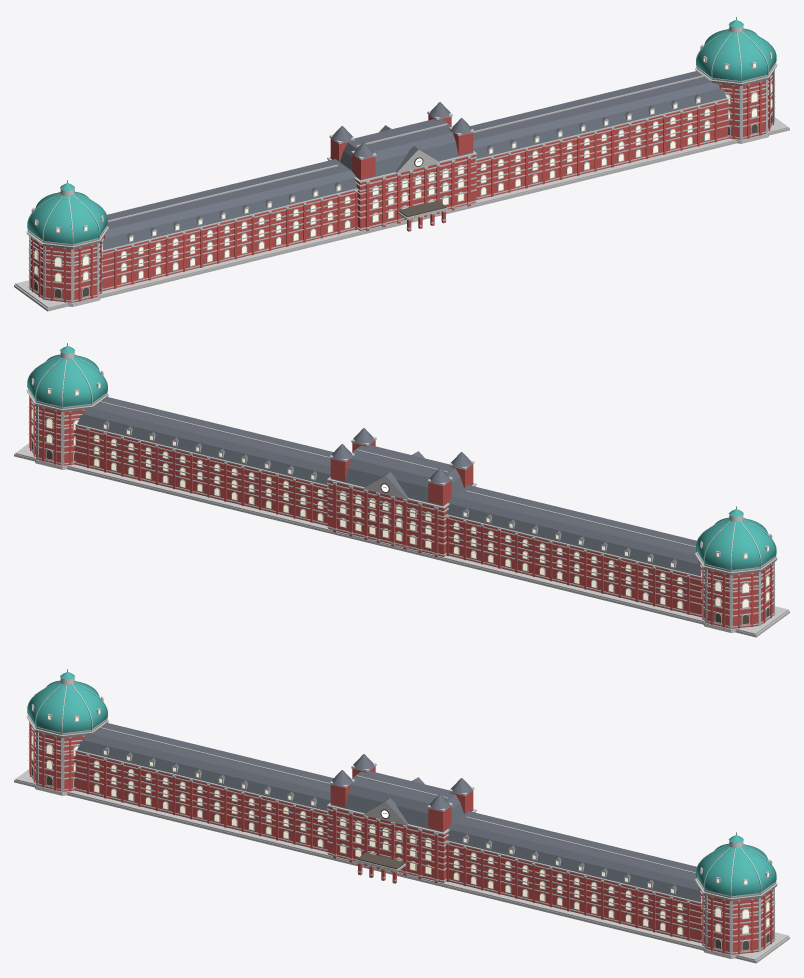
The model's file is tokyo_station.glb.
3 renders of one model, top to bottom at view 1: azimuth 30°, elevation 25°; view 2: azimuth 150°, elevation 25°; view 3: azimuth 330°, elevation 25°, orthographic.
Parts seen in each view (by area): view 1: NorthWing, SouthWing, FacadeDetails, CentralBuilding, NorthDome, SouthDome; view 2: NorthWing, SouthWing, FacadeDetails, CentralBuilding, NorthDome, SouthDome; view 3: SouthWing, NorthWing, FacadeDetails, CentralBuilding, SouthDome, NorthDome.
Boxes of the visible parts, box(x1,y1,x2,y2) form: NorthWing: box(101, 159, 357, 291); SouthWing: box(470, 71, 729, 199); FacadeDetails: box(14, 72, 789, 311); CentralBuilding: box(328, 102, 475, 231); NorthDome: box(26, 180, 108, 303); SouthDome: box(695, 17, 777, 139); NorthWing: box(446, 485, 702, 617); SouthWing: box(74, 397, 333, 525); FacadeDetails: box(14, 398, 789, 637); CentralBuilding: box(328, 428, 475, 557); NorthDome: box(695, 506, 777, 629); SouthDome: box(26, 343, 108, 465); SouthWing: box(446, 811, 702, 943); NorthWing: box(74, 723, 333, 851); FacadeDetails: box(14, 724, 789, 963); CentralBuilding: box(328, 754, 475, 883); SouthDome: box(695, 832, 777, 955); NorthDome: box(26, 669, 108, 791).
Size of the model in its own units: 322 by 46.7 by 33.57.
